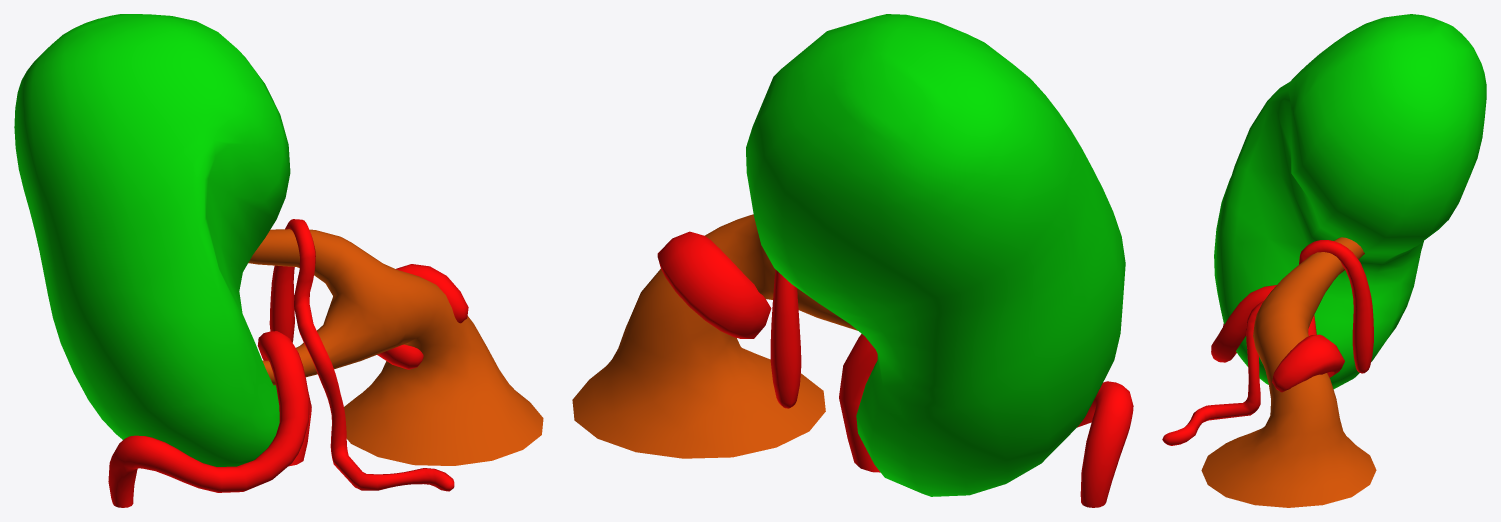
The model's file is BubbleTree_02.fbx.
3 renders of one model, left to right at view 1: azimuth 30°, elevation 25°; view 2: azimuth 150°, elevation 25°; view 3: azimuth 270°, elevation 25°, orthographic. The views are drawn at different scales.
Parts seen in each view (by area): view 1: BubbleTree_02_LOD0; view 2: BubbleTree_02_LOD0; view 3: BubbleTree_02_LOD0.
Boxes of the visible parts, bbox=[...] form: BubbleTree_02_LOD0: bbox=[14, 14, 543, 507]; BubbleTree_02_LOD0: bbox=[572, 14, 1133, 507]; BubbleTree_02_LOD0: bbox=[1162, 14, 1486, 507].
Size of what is drawn, in the model's own units: 929 by 838 by 701.
